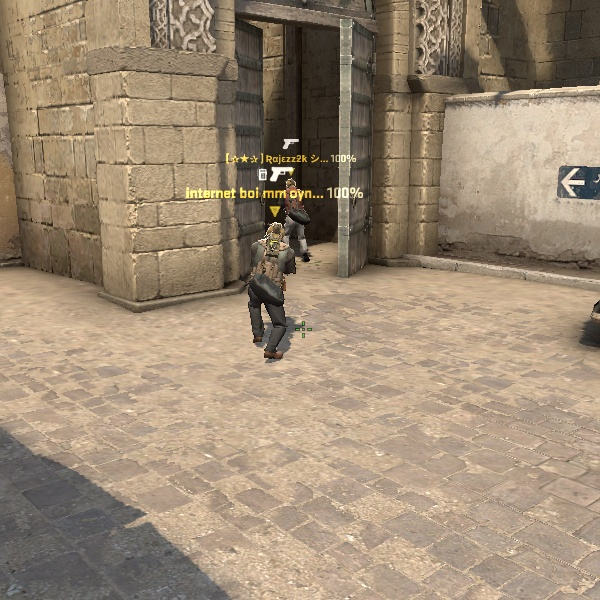t_body: (230, 210, 316, 361), (274, 178, 325, 261)
t_head: (261, 217, 290, 246), (280, 174, 302, 193)
